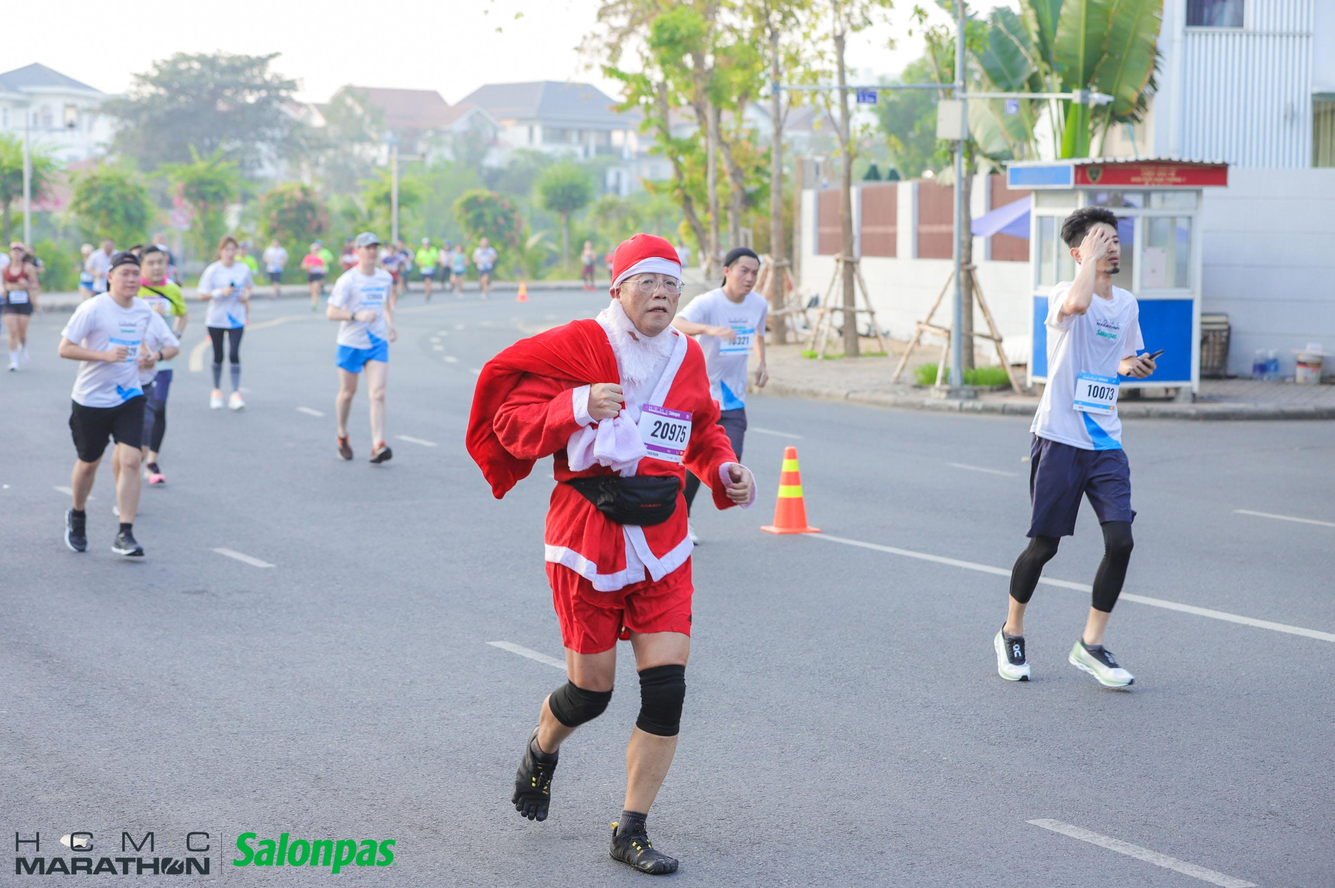bib: (633, 403, 693, 458), (1070, 372, 1122, 413), (721, 326, 756, 356), (361, 287, 389, 304)
